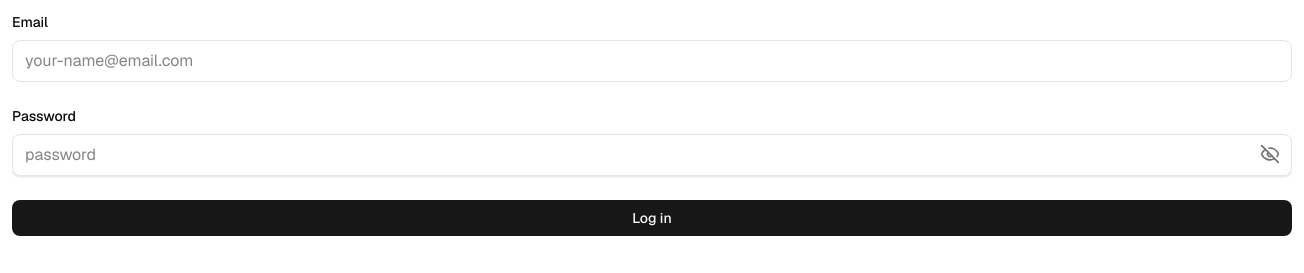
Test: LoginForm › should show validation error for short password
Type "test@example.com" into the field labelled "Email". click: (652,61)
box: [12,40,1292,82]
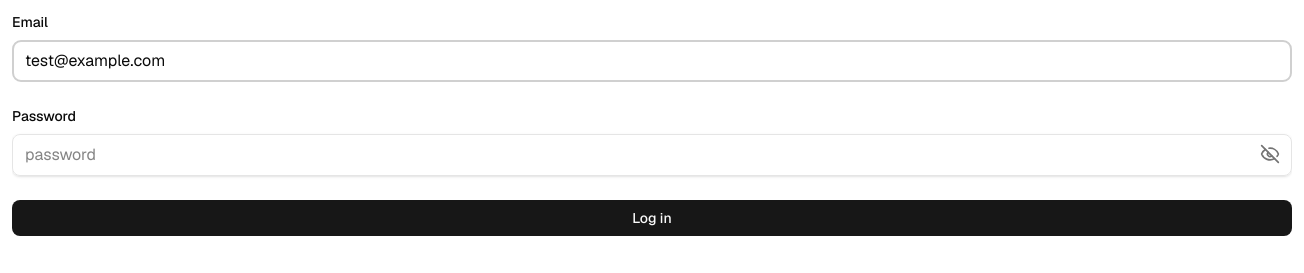
Type "12345" into the password field labelled "Password". click: (652,155)
box: [12,134,1292,176]
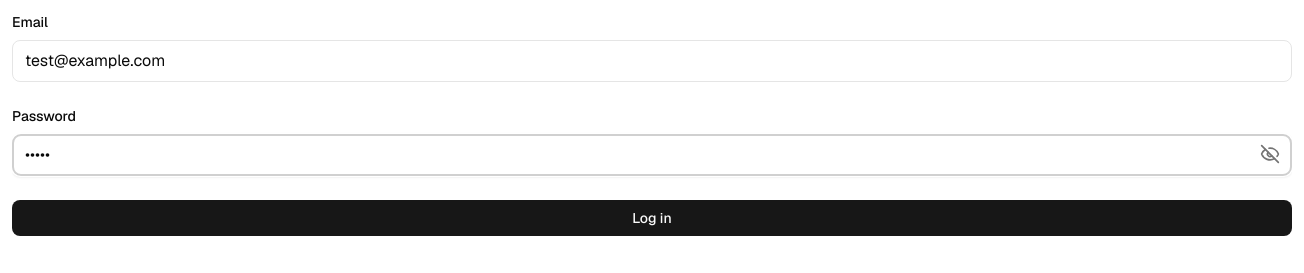
Click the button "Log in". click: (652,218)
box: [12,200,1292,236]
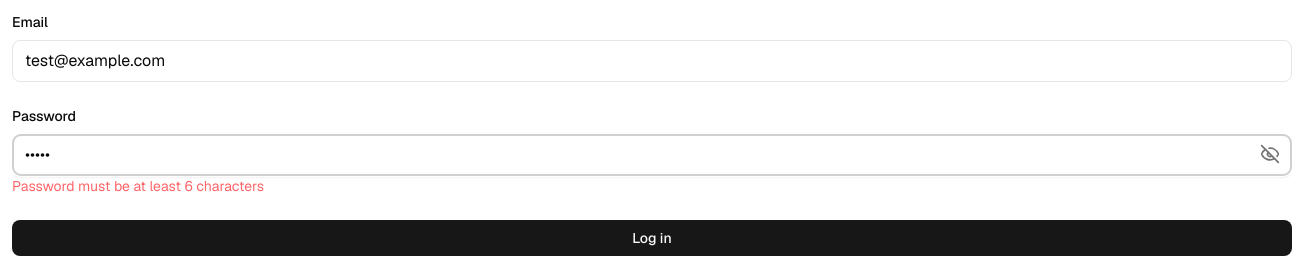
Check: the text "Password must be at least 6 characters" is shown, box [12,177,264,195]
